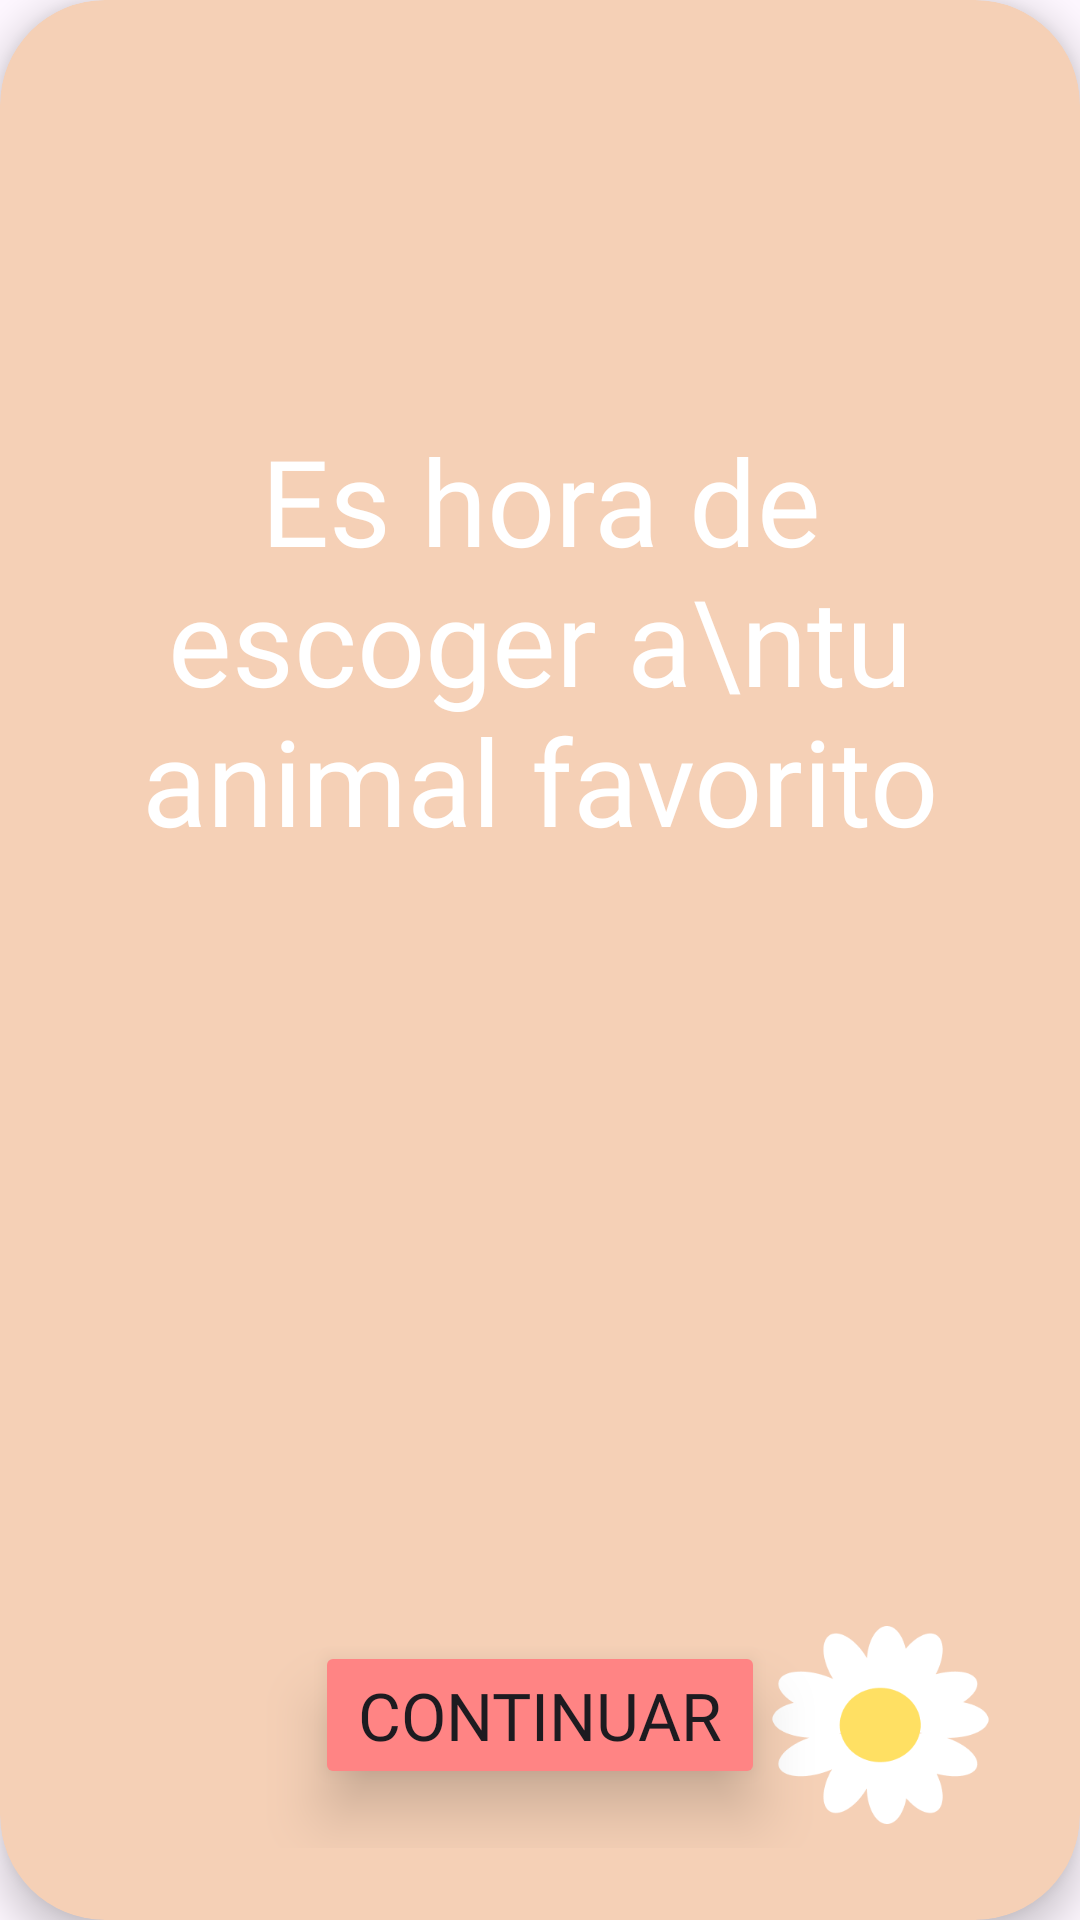

Where to tap for icons on this 1080 × 1920 app screen, as [x,y]:
flor: [880,1725]
